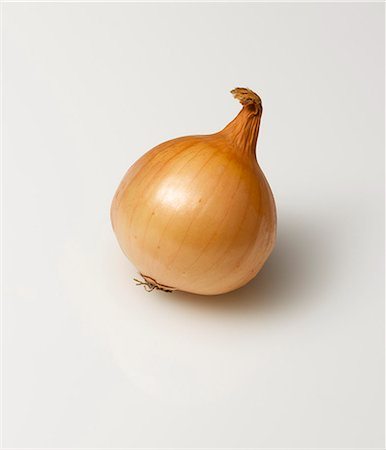onion: (102, 55, 299, 302)
